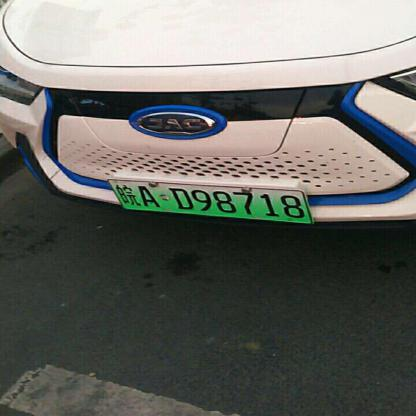lp: (109, 180, 315, 221)
